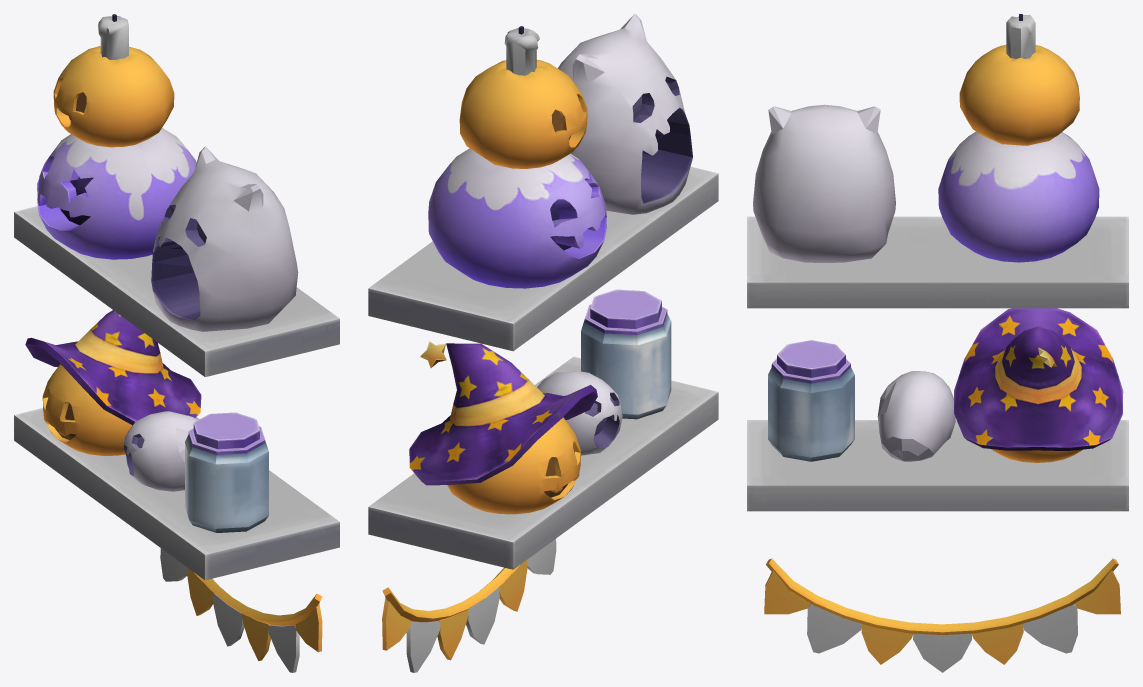
Rendered from my_halloween_01_p_shelf.glb.
The picture shows the model from 3 angles, left to right: view 1: azimuth 30°, elevation 25°; view 2: azimuth 150°, elevation 25°; view 3: azimuth 270°, elevation 25°; orthographic projection. The views are drawn at different scales.
Parts seen in each view (by area): view 1: my_halloween_01_p_shelf; view 2: my_halloween_01_p_shelf; view 3: my_halloween_01_p_shelf.
Boxes of the visible parts, bbox=[...] form: my_halloween_01_p_shelf: bbox=[14, 14, 339, 672]; my_halloween_01_p_shelf: bbox=[368, 14, 718, 672]; my_halloween_01_p_shelf: bbox=[747, 14, 1128, 672].
Size of the model in its own units: 0.00392 by 0.0148 by 0.00825.
Materials: 1 (1 with a texture image).
